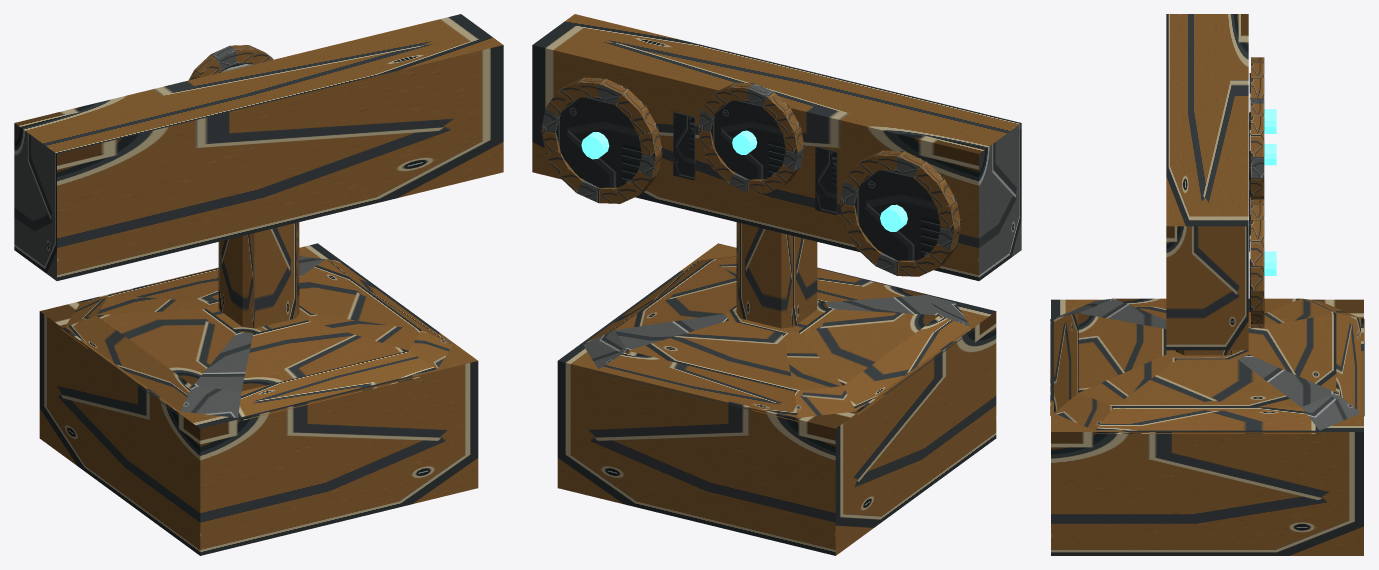
Rendered from base_sensor.glb.
3 views of the same model, side by side, from view 1: azimuth 30°, elevation 25°; view 2: azimuth 150°, elevation 25°; view 3: azimuth 270°, elevation 25° (orthographic). The views are drawn at different scales.
Visible parts, largest first — view 1: STProp_base_sensor_Body; view 2: STProp_base_sensor_Body; view 3: STProp_base_sensor_Body.
Boxes of the visible parts, x1,y1,x2,y2 form: STProp_base_sensor_Body: (14,14,503,555); STProp_base_sensor_Body: (532,14,1021,555); STProp_base_sensor_Body: (1050,14,1364,555).
Bounding box in the file's own units: 7.42 × 6.29 × 4.64.
5 materials, 4 textured.
